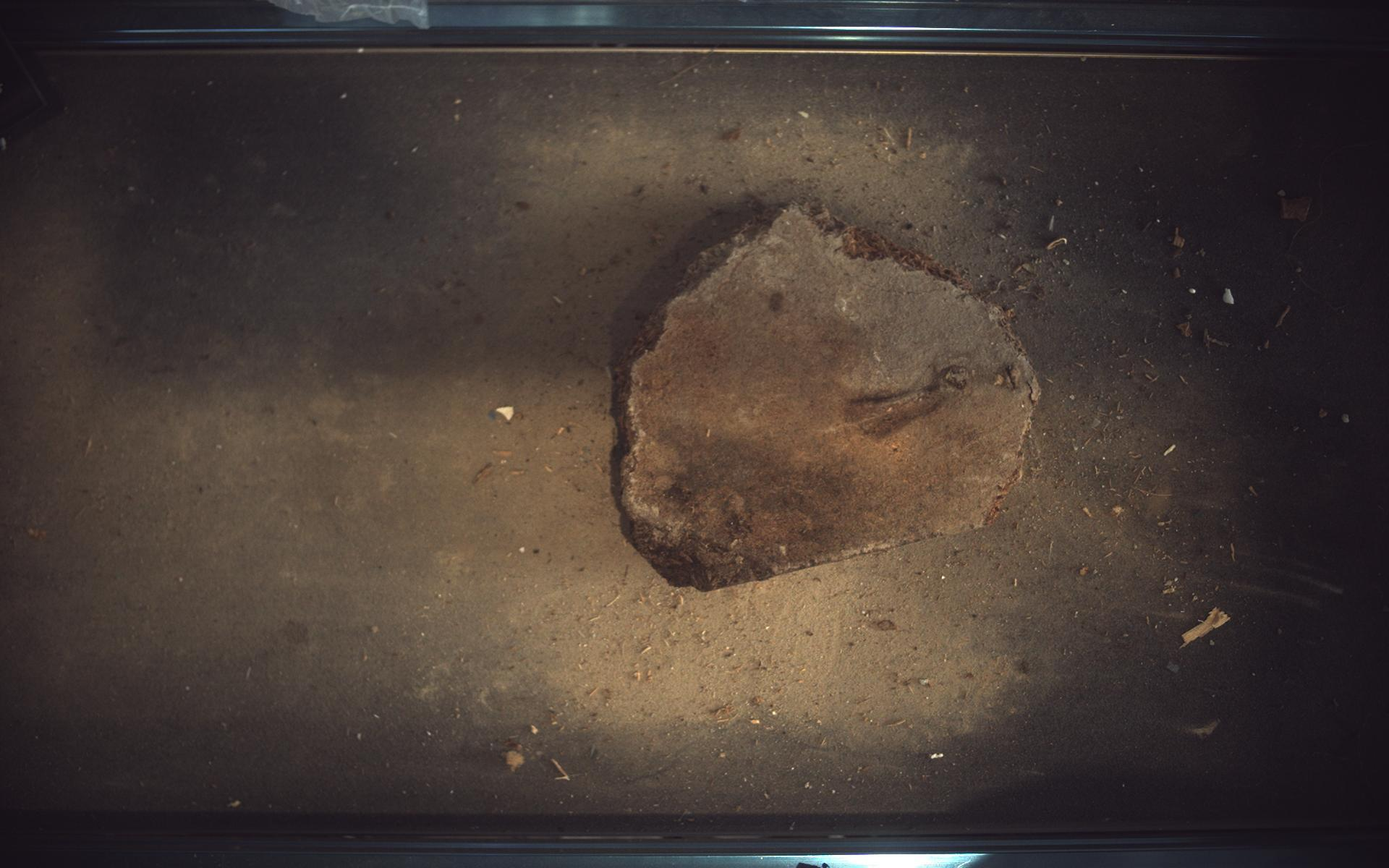wood: (617, 204, 1042, 591)
